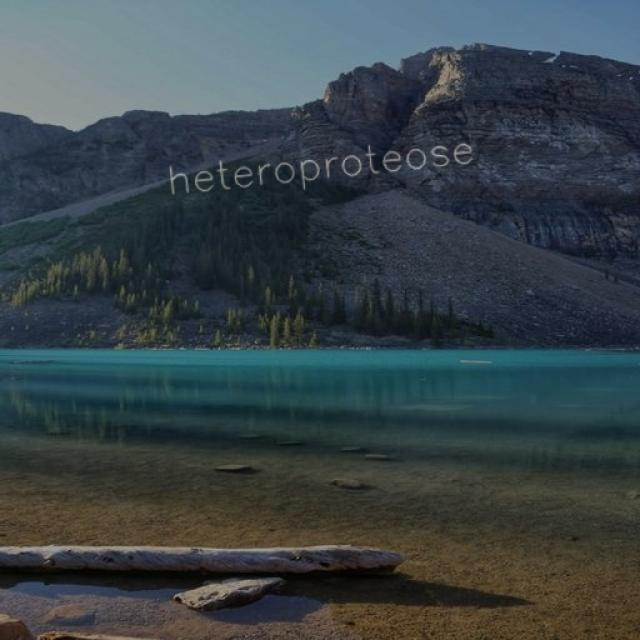watermark: (158, 131, 474, 201)
